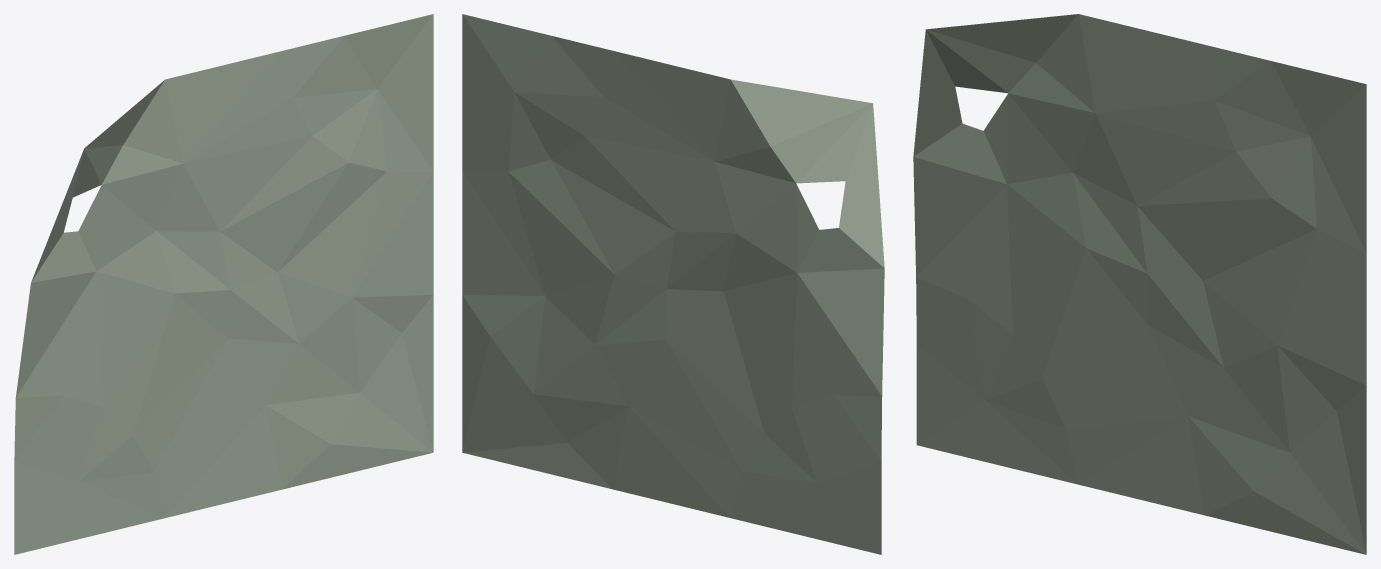
The model's file is Wallpapper_03.fbx.
3 views of the same model, side by side, from view 1: azimuth 30°, elevation 25°; view 2: azimuth 150°, elevation 25°; view 3: azimuth 330°, elevation 25° (orthographic). The views are drawn at different scales.
Parts seen in each view (by area): view 1: Wallpapper_03; view 2: Wallpapper_03; view 3: Wallpapper_03.
Boxes of the visible parts, bbox=[...] form: Wallpapper_03: bbox=[14, 14, 433, 554]; Wallpapper_03: bbox=[462, 14, 884, 554]; Wallpapper_03: bbox=[913, 14, 1366, 554].
Bounding box in the file's own units: 100 × 100 × 13.59.
Materials: 1 (1 with a texture image).
